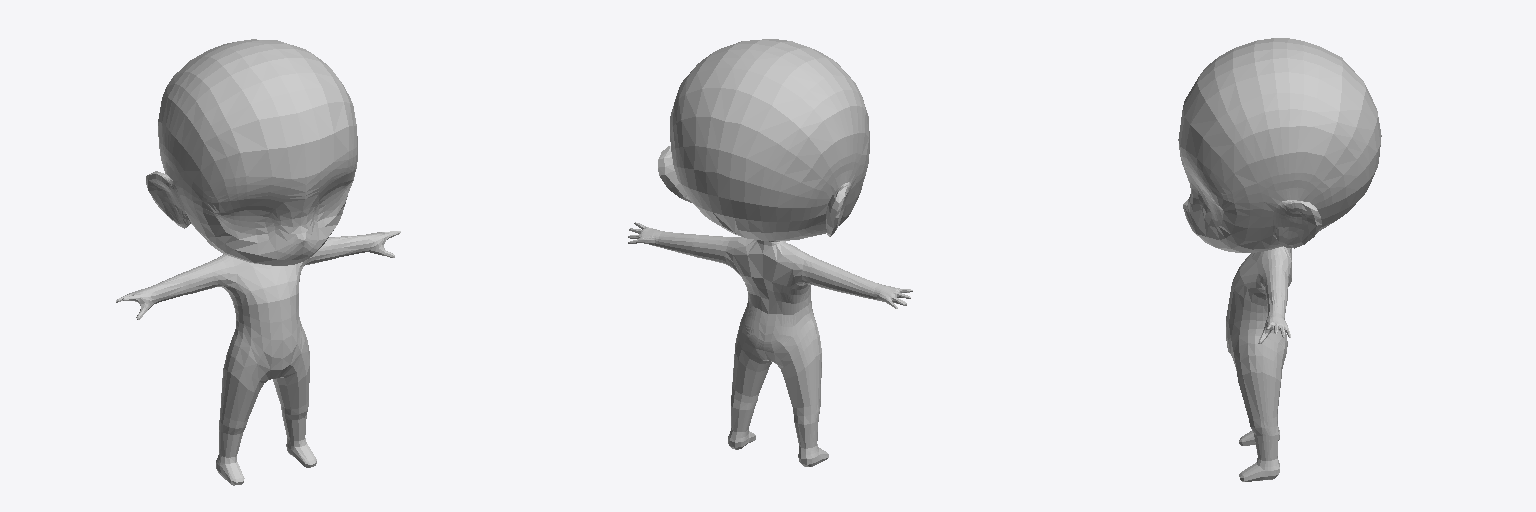
The model's file is Chibi_lp.obj.
3 views of the same model, side by side, from view 1: azimuth 30°, elevation 25°; view 2: azimuth 150°, elevation 25°; view 3: azimuth 270°, elevation 25° (orthographic).
Visible parts, largest first — view 1: Retopology_Plane; view 2: Retopology_Plane; view 3: Retopology_Plane.
Boxes of the visible parts, x1,y1,x2,y2 form: Retopology_Plane: [116, 39, 400, 485]; Retopology_Plane: [628, 39, 912, 466]; Retopology_Plane: [1178, 38, 1381, 481].
Bounding box in the file's own units: 1.18 × 1.65 × 0.7363.